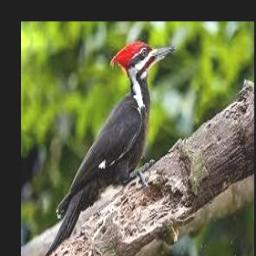Woodpecker: (42, 40, 176, 256)
